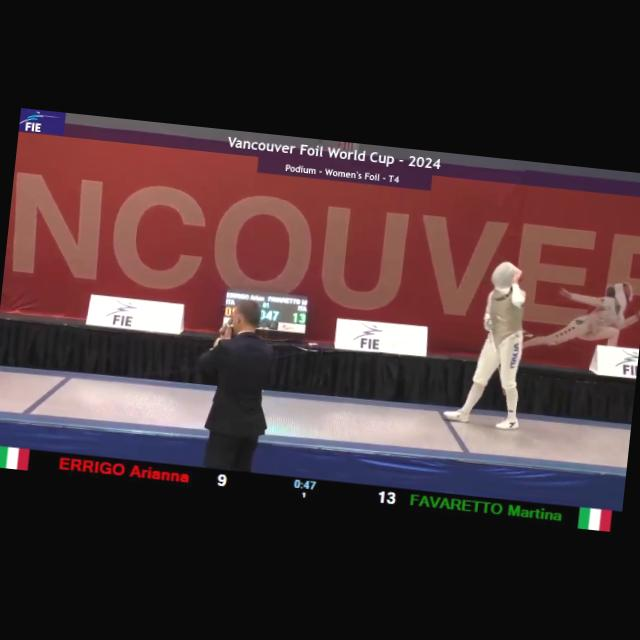blade: (476, 316, 514, 397)
